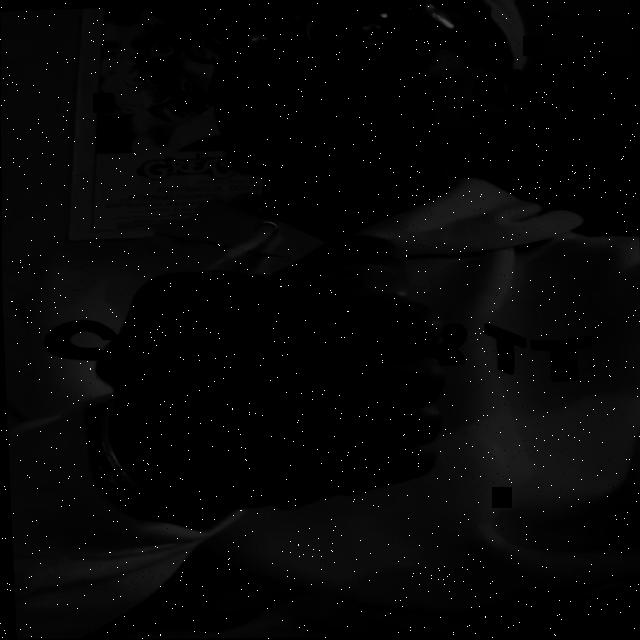Rock: (87, 231, 454, 516)
